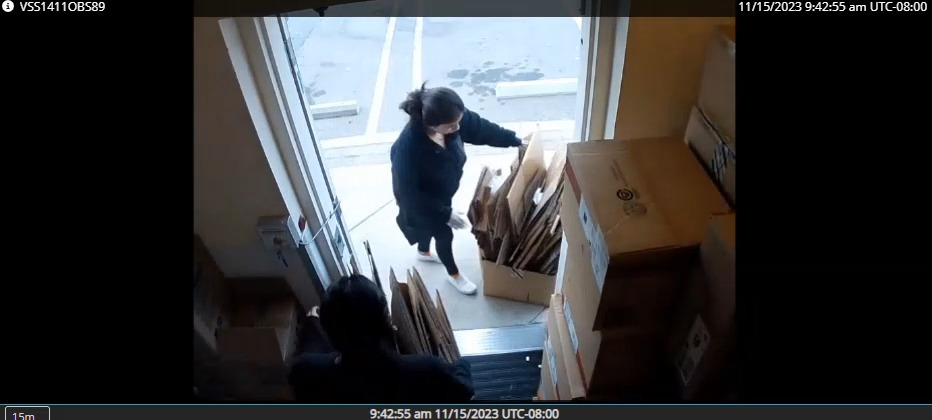gloves: (443, 204, 474, 236)
